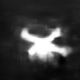plane: (18, 25, 73, 65)
